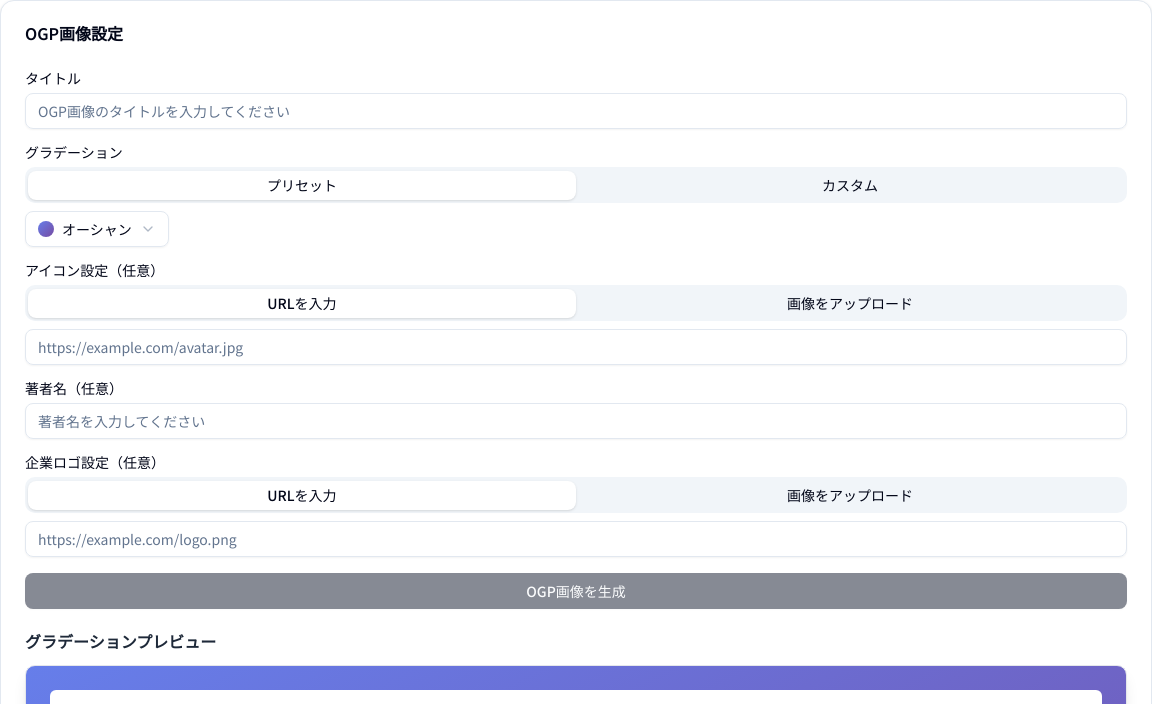
it: OGP画像作成フォーム › OGP画像生成機能 › 生成処理でエラーが発生したとき › エラーメッセージが表示される
Type "テストタイトル" into the field labelled "タイトル" at (576, 111), box [25,93,1127,129]
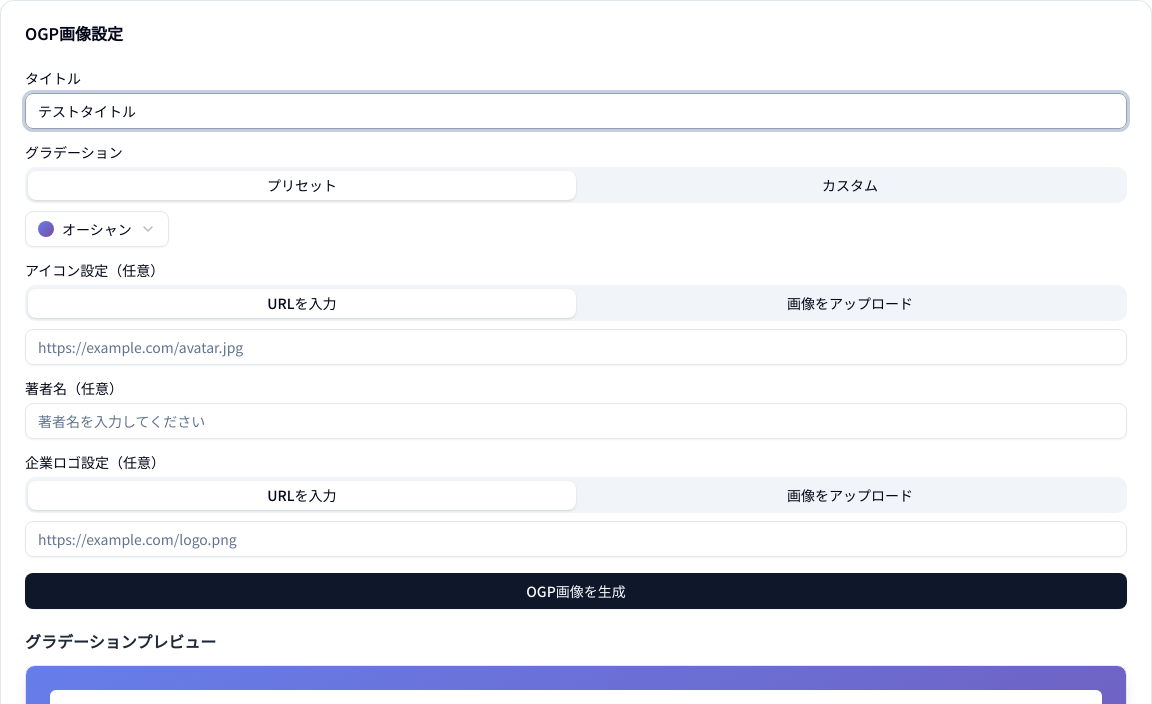
Note: 生成ボタンをクリックする
Click the button "OGP画像を生成" at (576, 591), box [25,573,1127,609]
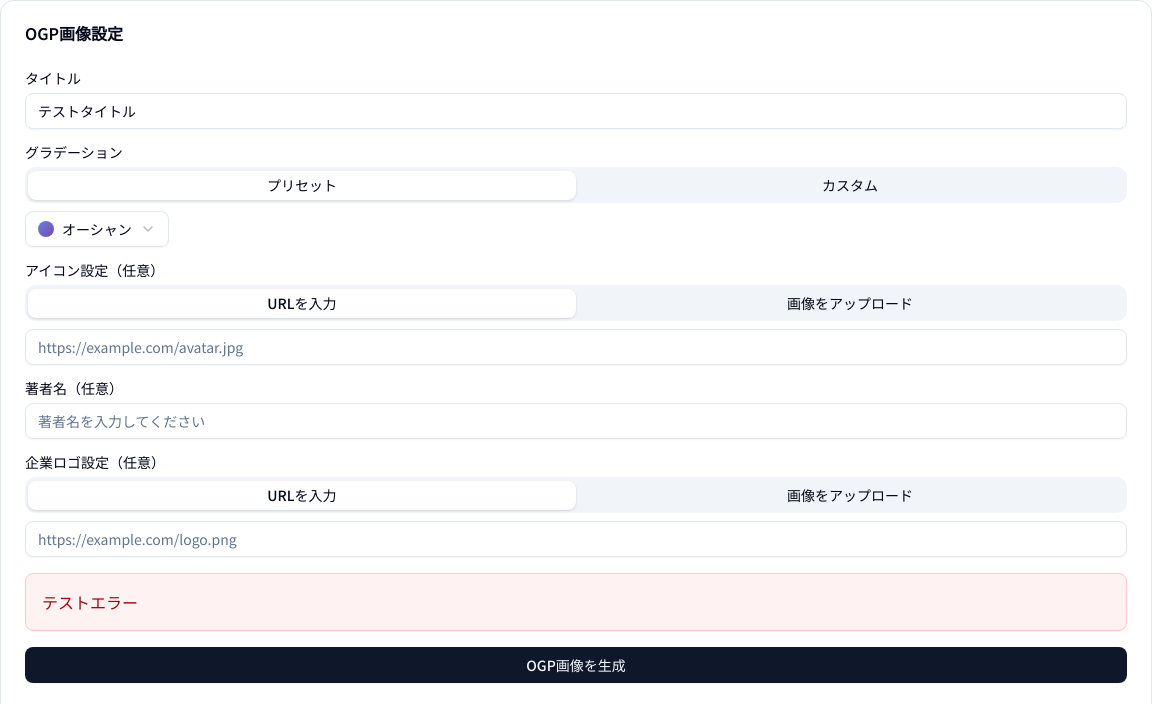
Now the text "テストエラー" is shown, box [42,590,138,614]
